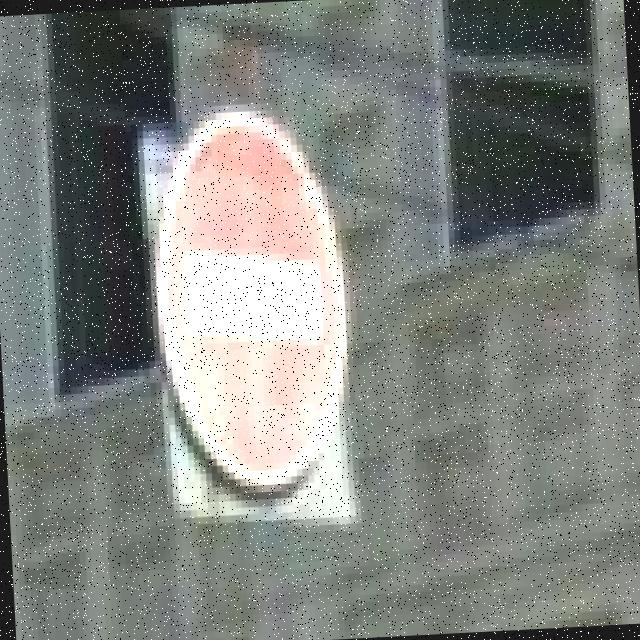Zakaz wjazdu: (147, 100, 360, 498)
